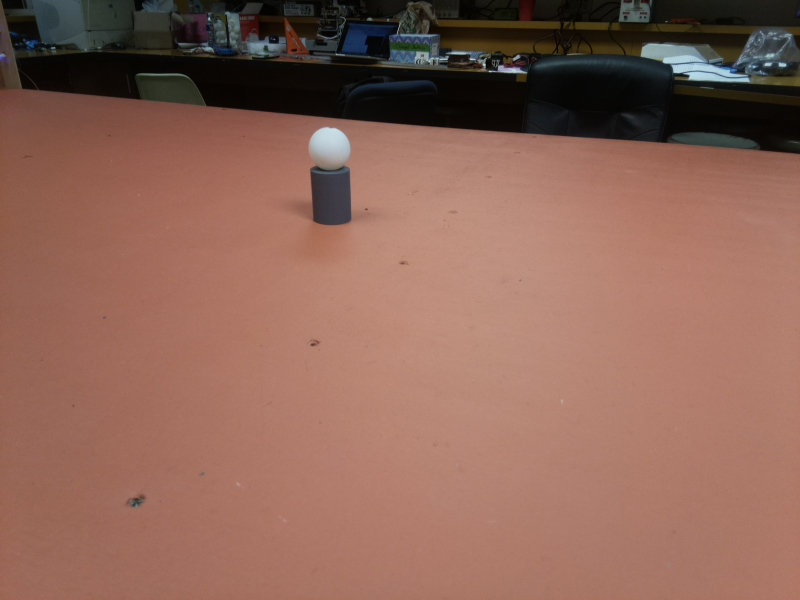obstacle: (306, 125, 353, 225)
